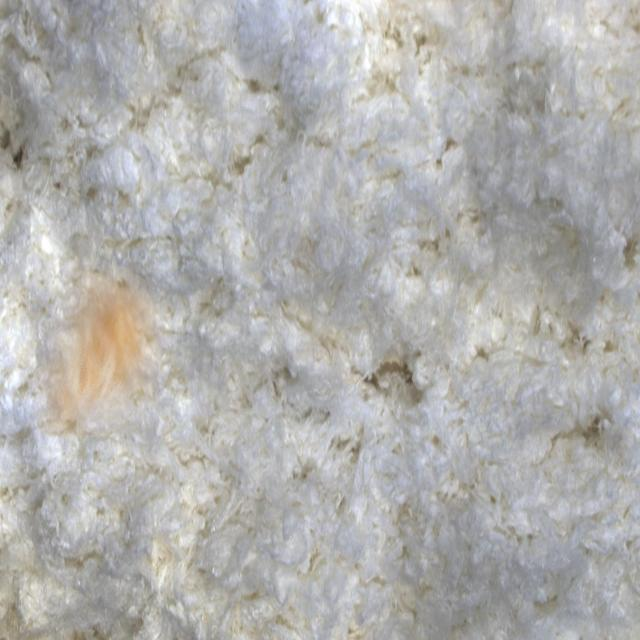dust: (31, 264, 173, 437)
